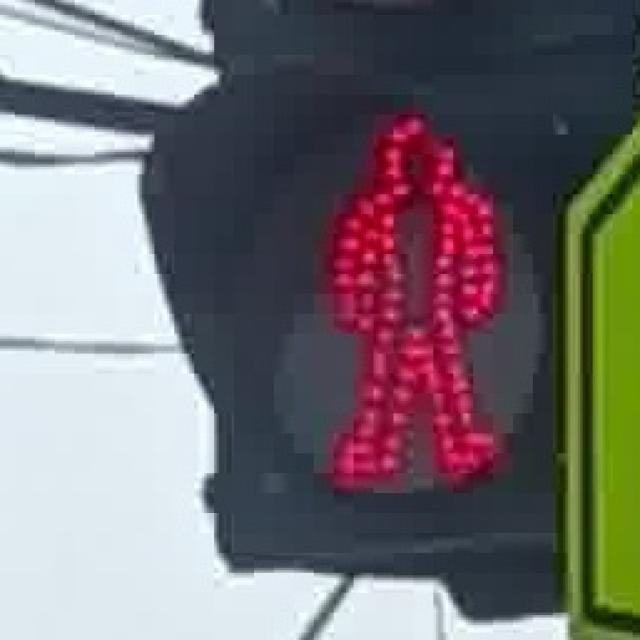red-crossing: (280, 84, 524, 514)
